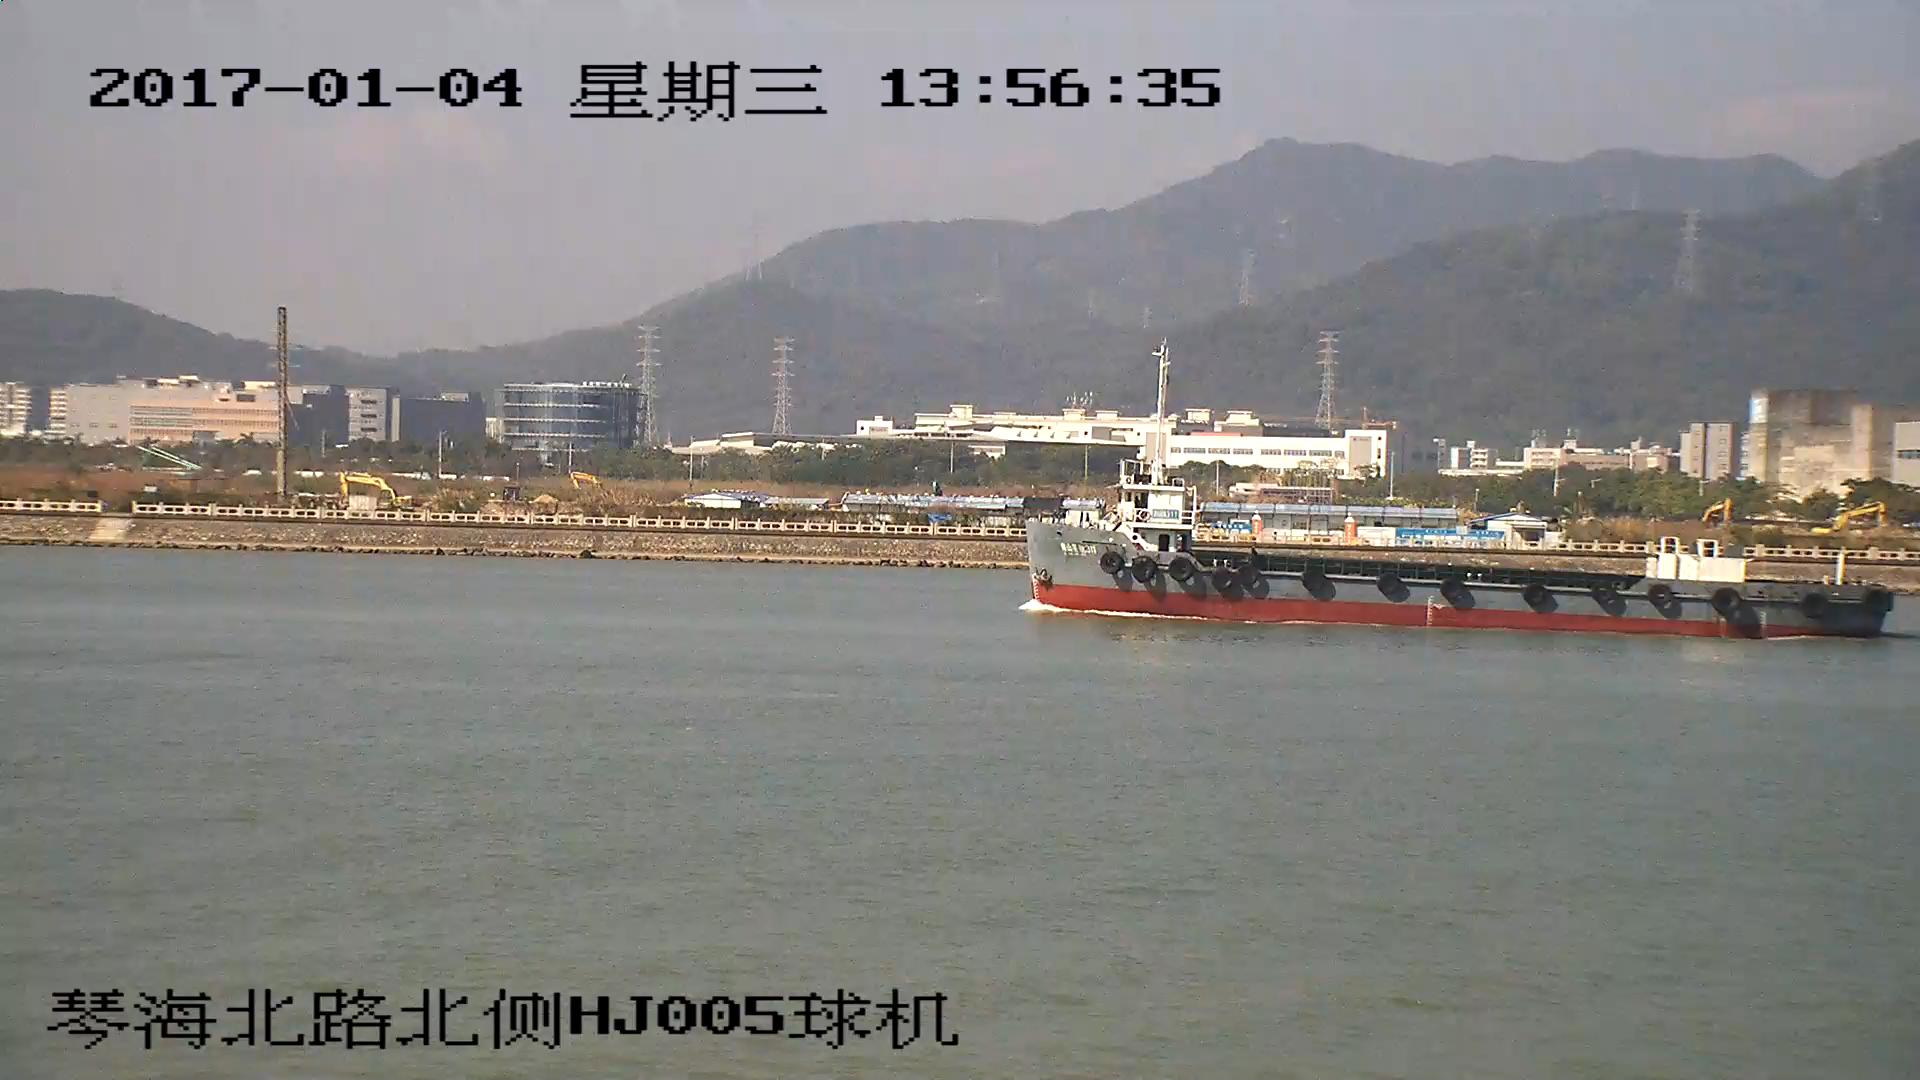general cargo ship: (1024, 479, 1894, 642)
